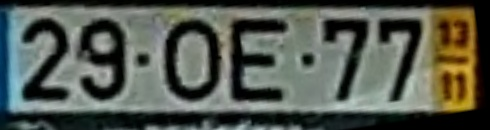2: (17, 13, 74, 104)
7: (320, 16, 373, 107), (378, 17, 426, 108)
9: (76, 15, 129, 105)
E: (228, 17, 291, 105)
O: (159, 15, 224, 106)
